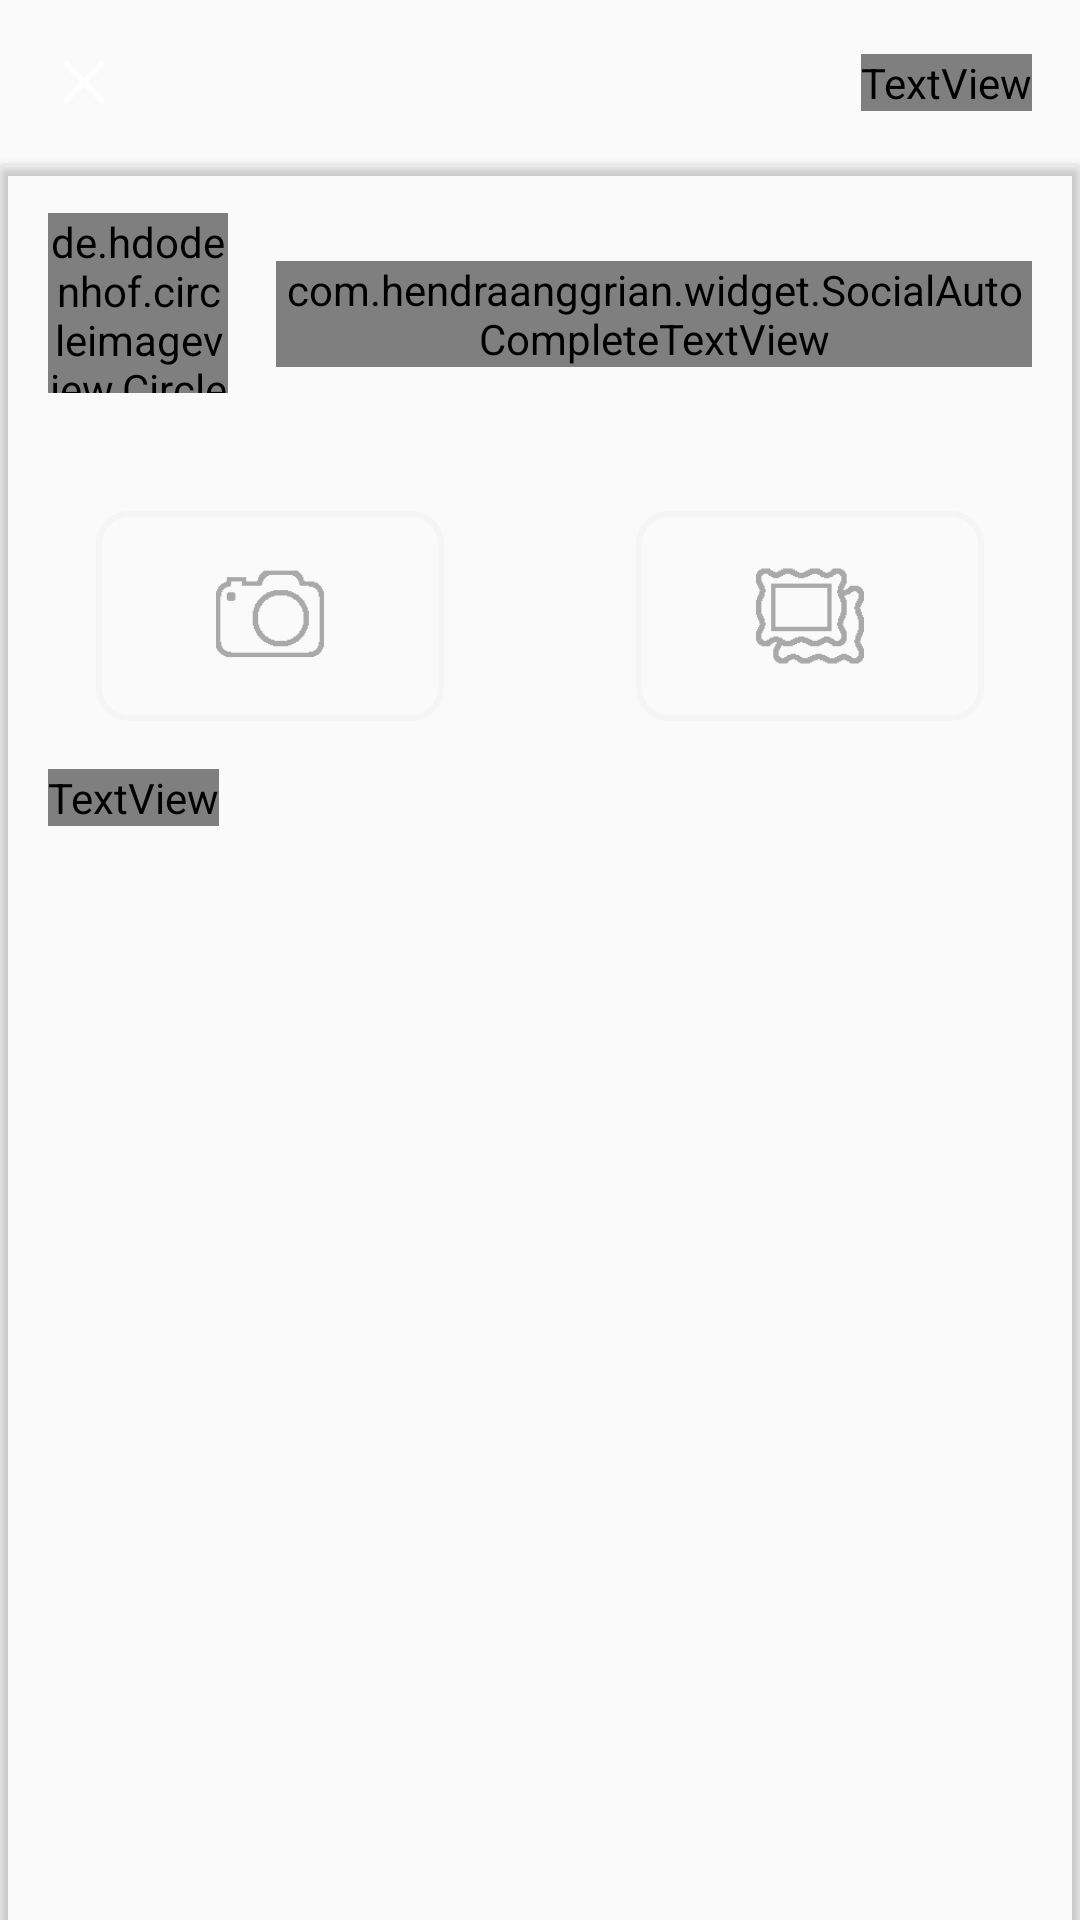

Where icons sit on this 1080 × 1920 app screen, as box=[x1, y1, x2, y2]:
camera: box=[216, 570, 324, 657]
gallery: box=[756, 568, 864, 664]
